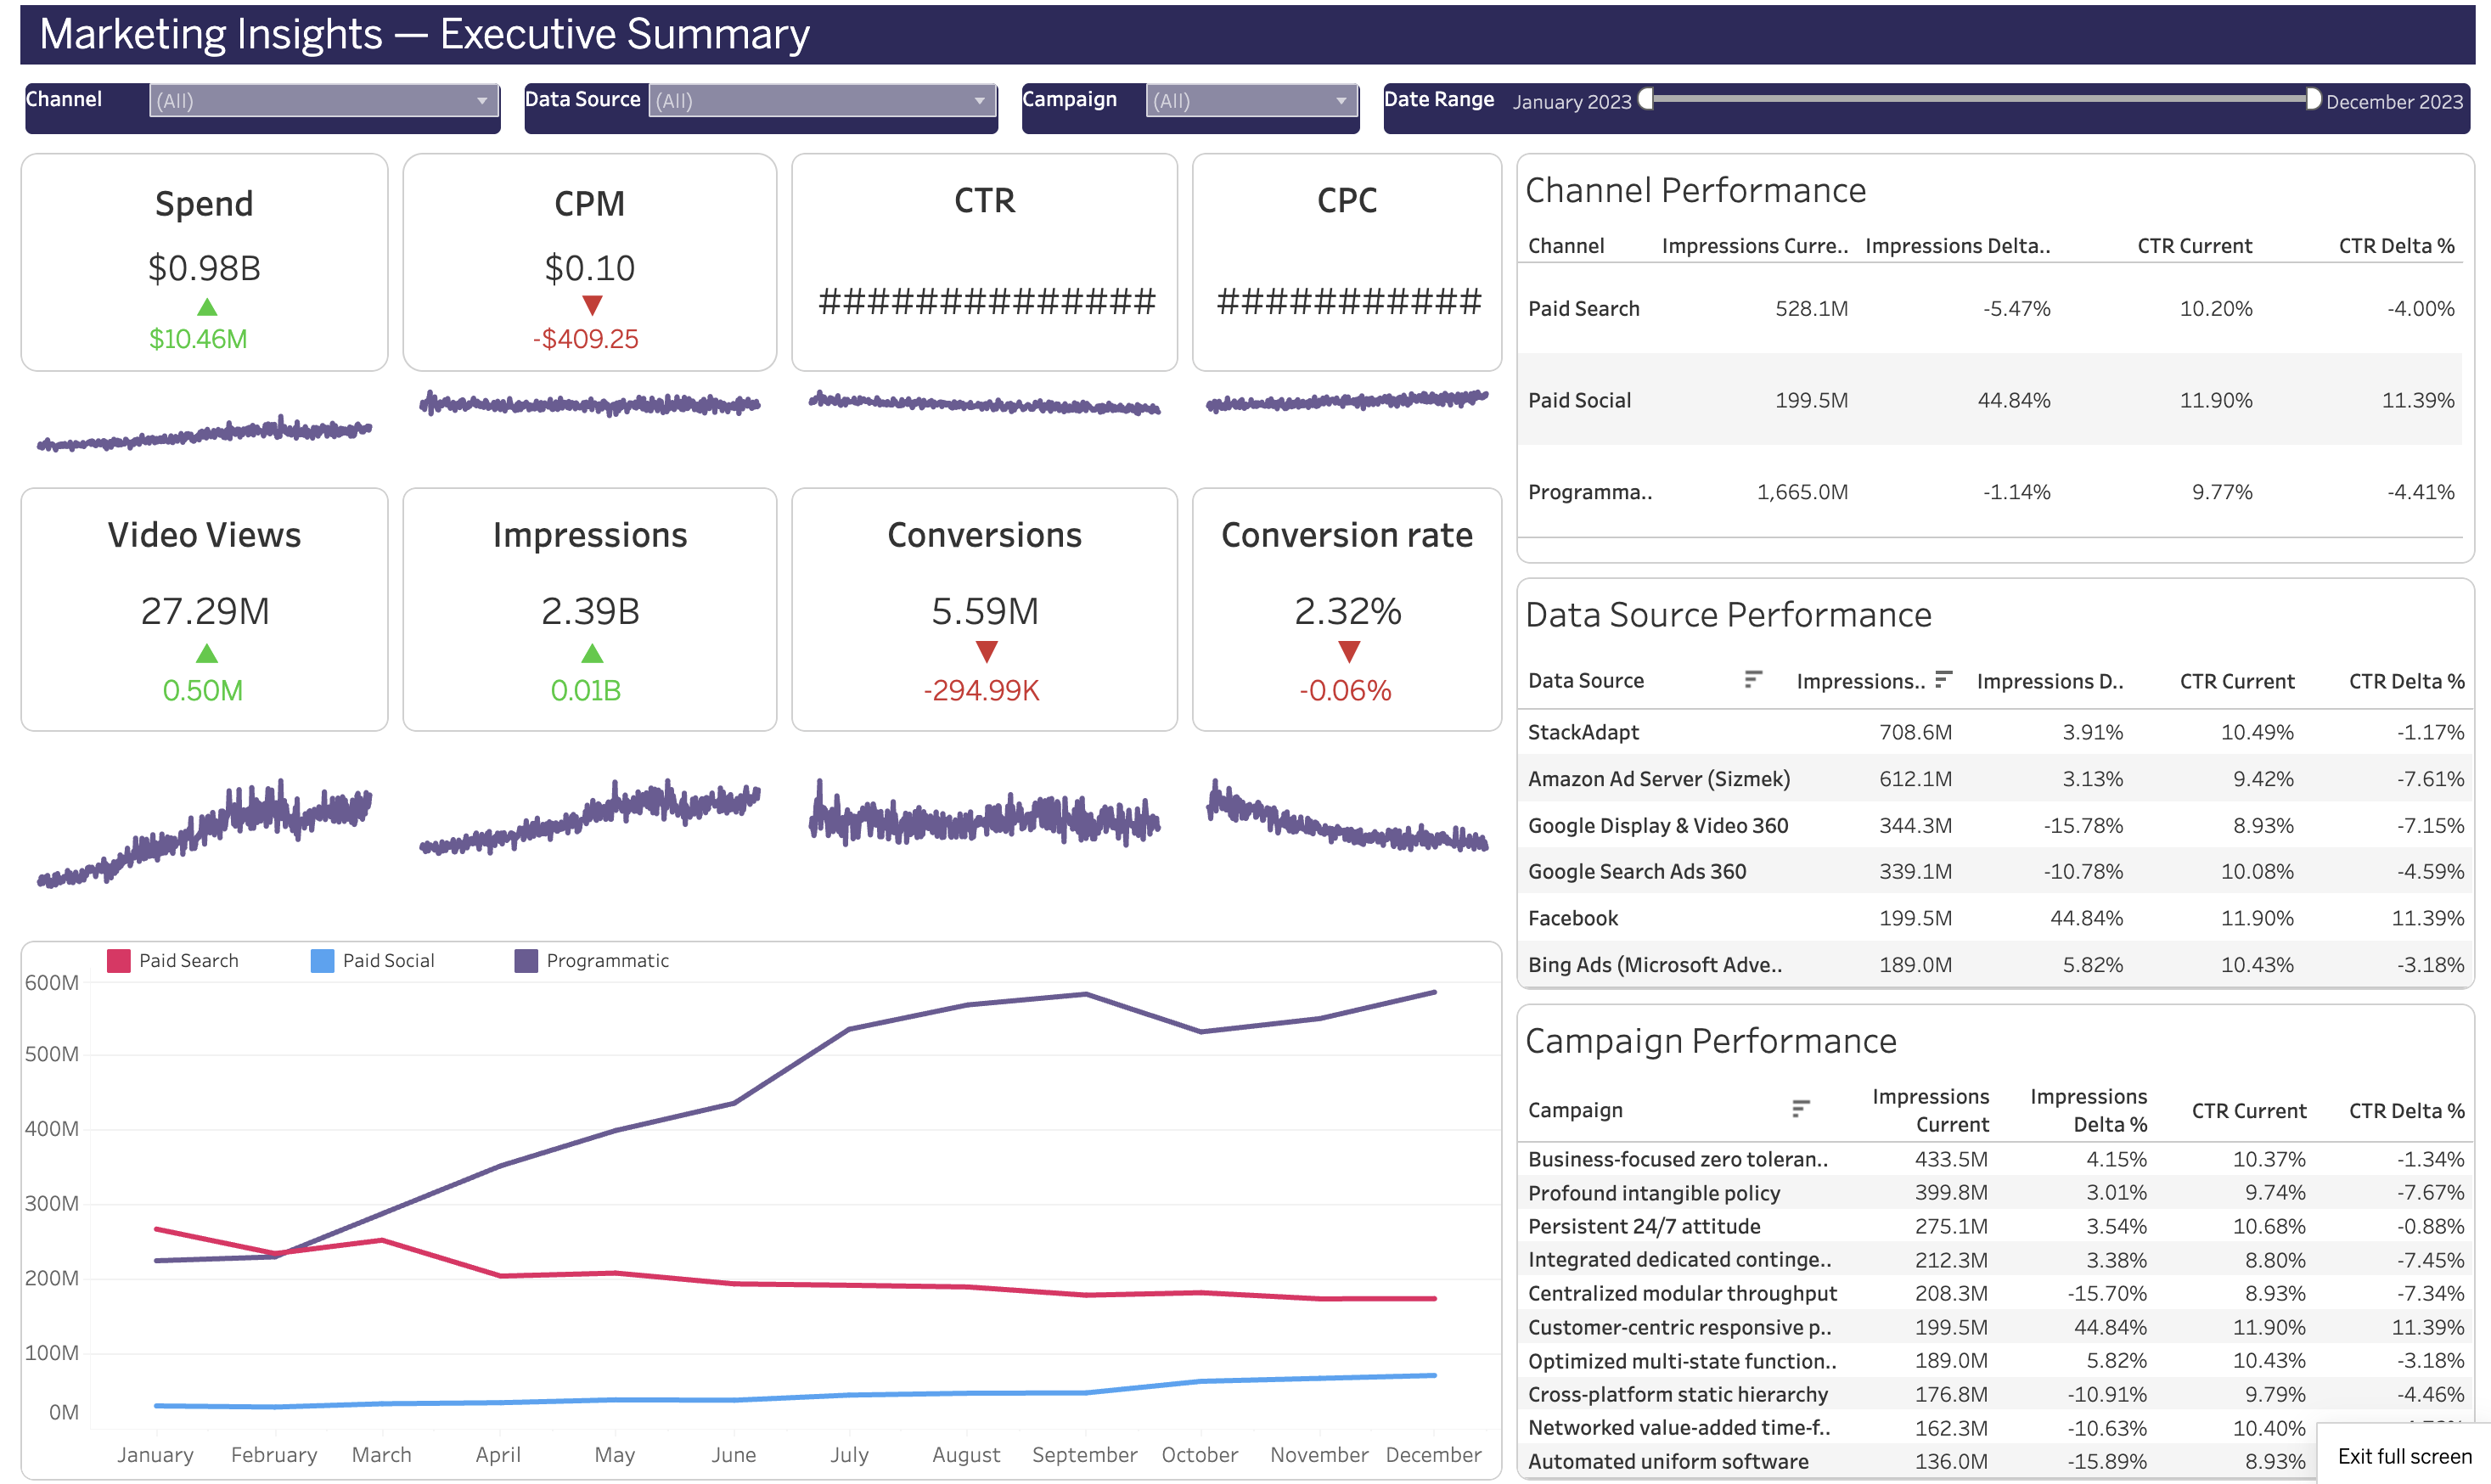

The page's visual inventory and layout, read from the dashboard file:
{"tool":"tableau","page":{"name":"Executive Summary","canvas":[1000,1000],"units":"permille","ordinal":0},"visuals":[{"type":"text","box":[6.2,10.3,987.7,48.3]},{"type":"filter","title":"Channel Performance","param":"[federated.0atgjvj0ysp66l122vluj0mv3udi].[none:channel:nk]","box":[6.2,58.2,199.8,49.2]},{"type":"filter","title":"Data Source Performance","param":"[federated.0atgjvj0ysp66l122vluj0mv3udi].[none:data_source:nk]","box":[206,58.2,199.1,49.2]},{"type":"filter","title":"Campaign Performance","param":"[federated.0atgjvj0ysp66l122vluj0mv3udi].[none:campaign:nk]","box":[404.9,58.7,144.6,48.6]},{"type":"filter","title":"Campaign Performance","param":"[federated.0atgjvj0ysp66l122vluj0mv3udi].[tmn:date:qk]","box":[549.5,58.7,444.4,48.6]},{"type":"worksheet","title":"KPI Spend","mark":"Automatic","box":[6.2,107.2,153.2,153.7]},{"type":"worksheet","title":"KPI CPM","mark":"Automatic","box":[159.4,107.2,155.3,153.7]},{"type":"worksheet","title":"KPI CTR","mark":"Automatic","box":[314.7,107.2,160.6,153.7]},{"type":"worksheet","title":"KPI CPC","mark":"Automatic","box":[475.3,107.2,129.4,153.7]},{"type":"worksheet","title":"Channel Performance","mark":"Automatic","rows":["channel"],"box":[604.7,107.2,389.1,279.5]},{"type":"worksheet","title":"Sparkline CPM","mark":"Automatic","rows":["Calculation_2030042370908187"],"cols":["date"],"box":[159.4,260.9,155.3,66.2]},{"type":"worksheet","title":"Sparkline CTR","mark":"Automatic","rows":["Calculation_2030042370842650"],"cols":["date"],"box":[314.7,260.9,160.6,66.2]},{"type":"worksheet","title":"Sparkline CPC","mark":"Automatic","rows":["Calculation_2030042370965532"],"cols":["date"],"box":[475.3,260.9,129.4,66.2]},{"type":"worksheet","title":"Sparkline Spend","mark":"Automatic","rows":["spend"],"cols":["date"],"box":[6.2,261,153.2,66.2]},{"type":"worksheet","title":"KPI Video Views","mark":"Automatic","box":[6.2,327.2,153.2,170.6]},{"type":"worksheet","title":"KPI Impressions","mark":"Automatic","box":[159.4,327.2,155.3,170.6]},{"type":"worksheet","title":"KPI Conversions","mark":"Automatic","box":[314.7,327.2,160.6,170.6]},{"type":"worksheet","title":"KPI Conversion rate","mark":"Automatic","box":[475.3,327.2,129.4,170.6]},{"type":"worksheet","title":"Data Source Performance","mark":"Automatic","rows":["data_source"],"box":[604.7,386.7,389.1,280.3]},{"type":"worksheet","title":"Sparkline Video Views","mark":"Automatic","rows":["video_views"],"cols":["date"],"box":[6.2,497.8,153.2,127.8]},{"type":"worksheet","title":"Sparkline Impressions","mark":"Automatic","rows":["impressions"],"cols":["date"],"box":[159.4,497.8,155.3,127.8]},{"type":"worksheet","title":"Sparkline Conversions","mark":"Automatic","rows":["conversions"],"cols":["date"],"box":[314.7,497.8,160.6,127.8]},{"type":"worksheet","title":"Sparkline Conversion rate","mark":"Automatic","rows":["Calculation_2030042371039261"],"cols":["date"],"box":[475.3,497.8,129.4,127.8]},{"type":"legend","title":"Time Series","param":"[federated.0atgjvj0ysp66l122vluj0mv3udi].[none:channel:nk]","box":[40.6,612.7,283.4,72.5]},{"type":"worksheet","title":"Time Series","mark":"Automatic","rows":["impressions"],"cols":["date"],"box":[6.2,625.6,598.6,364.1]},{"type":"worksheet","title":"Campaign Performance","mark":"Automatic","rows":["campaign"],"box":[604.7,667,389.1,322.6]}]}

Visuals, with their boxes on the dashboard's canvas, which has no fixed pixel size, in thousandths of its width and height (x1, y1, x2, y2). These are canvas units, not pixel positions in the 2491x1484 screenshot, which may show the page scaled, cropped or inside an application window:
text: rect(6, 10, 994, 59)
"Channel Performance" filter: rect(6, 58, 206, 107)
"Data Source Performance" filter: rect(206, 58, 405, 107)
"Campaign Performance" filter: rect(405, 59, 550, 107)
"Campaign Performance" filter: rect(550, 59, 994, 107)
"KPI Spend" worksheet: rect(6, 107, 159, 261)
"KPI CPM" worksheet: rect(159, 107, 315, 261)
"KPI CTR" worksheet: rect(315, 107, 475, 261)
"KPI CPC" worksheet: rect(475, 107, 605, 261)
"Channel Performance" worksheet: rect(605, 107, 994, 387)
"Sparkline CPM" worksheet: rect(159, 261, 315, 327)
"Sparkline CTR" worksheet: rect(315, 261, 475, 327)
"Sparkline CPC" worksheet: rect(475, 261, 605, 327)
"Sparkline Spend" worksheet: rect(6, 261, 159, 327)
"KPI Video Views" worksheet: rect(6, 327, 159, 498)
"KPI Impressions" worksheet: rect(159, 327, 315, 498)
"KPI Conversions" worksheet: rect(315, 327, 475, 498)
"KPI Conversion rate" worksheet: rect(475, 327, 605, 498)
"Data Source Performance" worksheet: rect(605, 387, 994, 667)
"Sparkline Video Views" worksheet: rect(6, 498, 159, 626)
"Sparkline Impressions" worksheet: rect(159, 498, 315, 626)
"Sparkline Conversions" worksheet: rect(315, 498, 475, 626)
"Sparkline Conversion rate" worksheet: rect(475, 498, 605, 626)
"Time Series" legend: rect(41, 613, 324, 685)
"Time Series" worksheet: rect(6, 626, 605, 990)
"Campaign Performance" worksheet: rect(605, 667, 994, 990)
